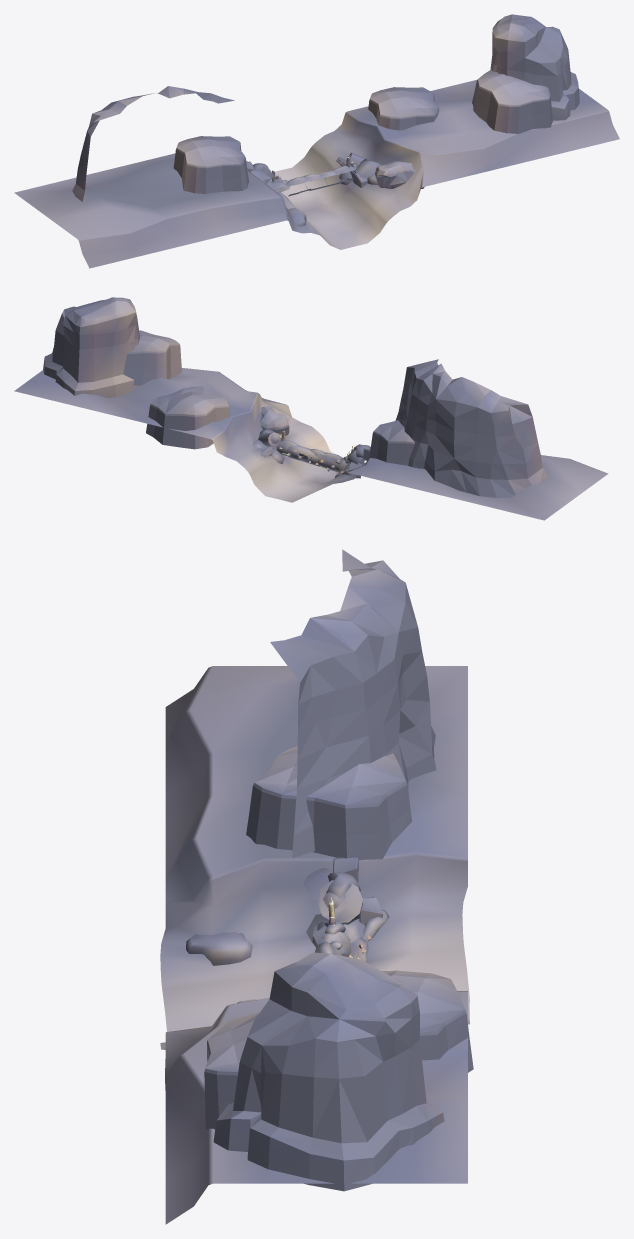
File: Arctic_Luge_Straight_UnderObstacle_A.glb
The picture shows the model from 3 angles, top to bottom: view 1: azimuth 30°, elevation 25°; view 2: azimuth 150°, elevation 25°; view 3: azimuth 270°, elevation 25°; orthographic projection. The views are drawn at different scales.
Parts seen in each view (by area): view 1: Arctic_Luge_Straight_UnderObstacle_A, Arctic_Luge_TallIceRock_prop, Arctic_Luge_SmallIceRock_prop (1), Arctic_Luge_SmallIceRock_prop (2), Arctic_Luge_SmallIceRock_prop, Arctic_Luge_IceWall_prop, Arctic_Luge_SmalRock_prop, Arctic_Luge_Straight_Obstacle; view 2: Arctic_Luge_Straight_UnderObstacle_A, Arctic_Luge_IceWall_prop, Arctic_Luge_TallIceRock_prop, Arctic_Luge_SmallIceRock_prop, Arctic_Luge_SmallIceRock_prop (1), Arctic_Luge_SmallIceRock_prop (2), Arctic_Luge_Straight_Obstacle, Arctic_Luge_SmalRock_prop; view 3: Arctic_Luge_Straight_UnderObstacle_A, Arctic_Luge_TallIceRock_prop, Arctic_Luge_IceWall_prop, Arctic_Luge_SmallIceRock_prop (2), Arctic_Luge_SmallIceRock_prop, Arctic_Luge_SmallIceRock_prop (1).
Boxes of the visible parts, <box> form: Arctic_Luge_Straight_UnderObstacle_A: <box>14,80,619,268</box>; Arctic_Luge_TallIceRock_prop: <box>490,14,579,120</box>; Arctic_Luge_SmallIceRock_prop (1): <box>472,69,552,133</box>; Arctic_Luge_SmallIceRock_prop (2): <box>173,136,249,193</box>; Arctic_Luge_SmallIceRock_prop: <box>368,87,439,130</box>; Arctic_Luge_IceWall_prop: <box>72,86,234,201</box>; Arctic_Luge_SmalRock_prop: <box>375,161,424,188</box>; Arctic_Luge_Straight_Obstacle: <box>271,165,356,196</box>; Arctic_Luge_Straight_UnderObstacle_A: <box>14,368,608,520</box>; Arctic_Luge_IceWall_prop: <box>395,359,547,497</box>; Arctic_Luge_TallIceRock_prop: <box>43,297,139,398</box>; Arctic_Luge_SmallIceRock_prop: <box>146,386,230,449</box>; Arctic_Luge_SmallIceRock_prop (1): <box>123,330,181,385</box>; Arctic_Luge_SmallIceRock_prop (2): <box>369,420,414,465</box>; Arctic_Luge_Straight_Obstacle: <box>276,440,348,471</box>; Arctic_Luge_SmalRock_prop: <box>260,406,289,435</box>; Arctic_Luge_Straight_UnderObstacle_A: <box>160,666,469,1224</box>; Arctic_Luge_TallIceRock_prop: <box>213,952,444,1191</box>; Arctic_Luge_IceWall_prop: <box>270,549,436,858</box>; Arctic_Luge_SmallIceRock_prop (2): <box>246,746,411,860</box>; Arctic_Luge_SmallIceRock_prop: <box>382,970,473,1072</box>; Arctic_Luge_SmallIceRock_prop (1): <box>204,1012,259,1129</box>.
Size of what is drawn, in the model's own units: 26.07 by 7.41 by 6.64.
